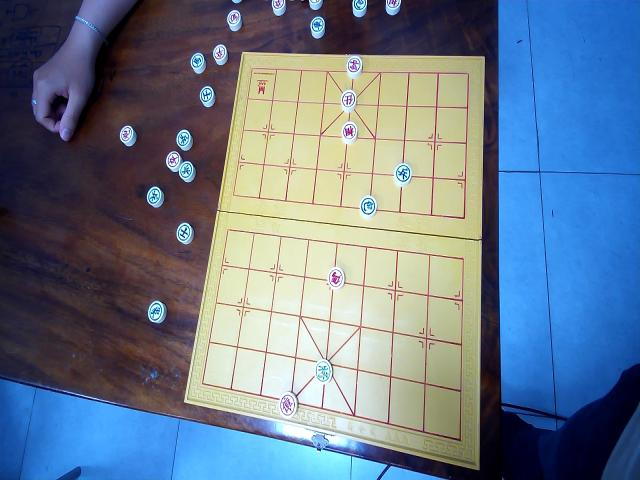piece: (278, 392, 297, 418), (394, 163, 412, 187), (315, 359, 332, 384), (327, 266, 345, 289), (148, 300, 166, 323), (341, 121, 357, 145), (147, 186, 164, 207), (360, 196, 376, 218), (177, 222, 193, 244), (341, 90, 356, 113), (347, 56, 362, 79), (179, 161, 195, 182), (310, 16, 325, 38), (120, 126, 136, 146), (166, 151, 182, 171), (200, 86, 215, 107), (213, 44, 228, 65), (177, 130, 192, 151), (191, 53, 205, 74), (227, 10, 241, 31), (352, 0, 367, 17), (385, 0, 400, 15), (272, 0, 286, 15), (309, 0, 322, 10), (232, 0, 241, 3)
